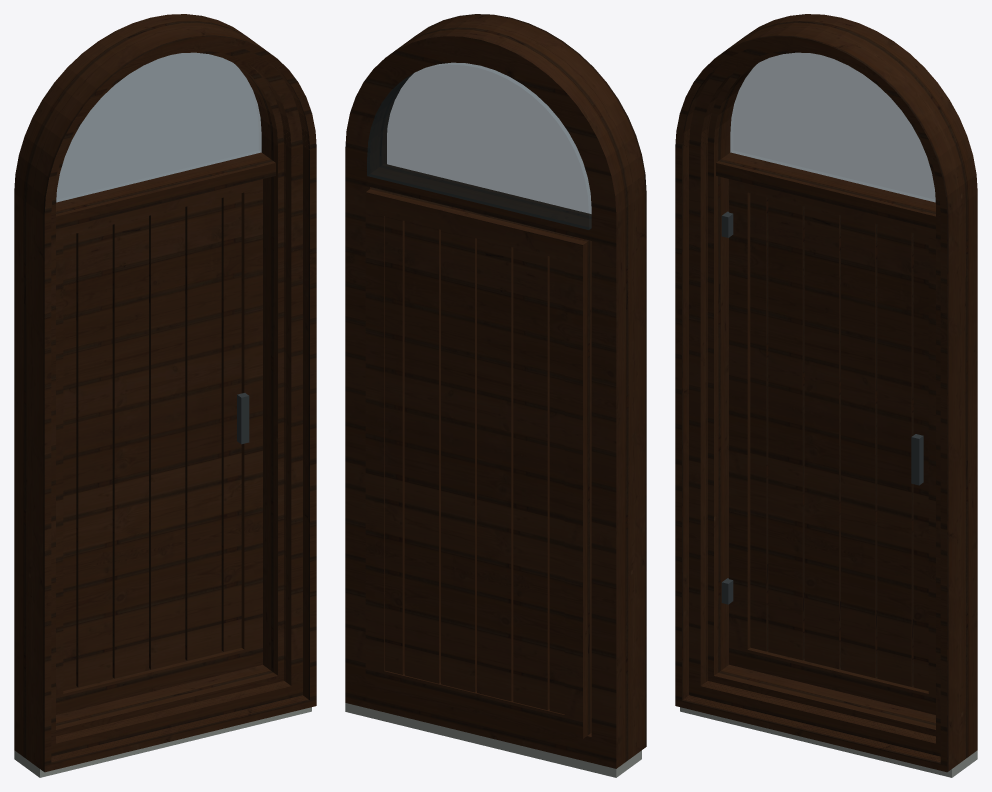
The model's file is madera_arch_puerta.glb.
3 views of the same model, side by side, from view 1: azimuth 30°, elevation 25°; view 2: azimuth 150°, elevation 25°; view 3: azimuth 330°, elevation 25° (orthographic).
Parts seen in each view (by area): view 1: door_reveal#0001, door_leaf_frame#0001, door_moulding#0020, transom_glass#0001, door_board#0004, door_board#0005, door_board#0002, door_board#0003, door_board#0006, door_moulding#0009, door_board#0001, transom_rail#0001 (+20 smaller); view 2: door_reveal#0001, door_leaf_frame#0001, transom_glass#0001, door_board#0002, door_board#0003, door_board#0005, door_board#0004, door_moulding#0020, door_board#0006, door_board#0001, transom_rail#0001, door_threshold#0001; view 3: door_moulding#0020, door_reveal#0001, door_leaf_frame#0001, transom_glass#0001, door_board#0003, door_board#0002, door_board#0004, door_board#0005, door_board#0001, door_board#0006, door_moulding#0009, transom_rail#0001 (+20 smaller).
Boxes of the visible parts, x1,y1,x2,y2 form: door_reveal#0001: (14,14,275,759); door_leaf_frame#0001: (56,179,262,714); door_moulding#0020: (25,22,316,772); transom_glass#0001: (56,52,261,202); door_board#0004: (149,207,185,669); door_board#0005: (185,198,221,660); door_board#0002: (76,224,112,687); door_board#0003: (112,216,148,678); door_board#0006: (221,193,241,651); door_moulding#0009: (53,47,294,747); door_board#0001: (63,233,76,690); transom_rail#0001: (56,152,275,229); door_reveal#0001: (345,26,629,768); door_leaf_frame#0001: (365,187,591,738); transom_glass#0001: (367,62,591,229); door_board#0002: (513,247,549,710); door_board#0003: (477,238,513,701); door_board#0005: (404,221,440,683); door_board#0004: (441,230,476,692); door_moulding#0020: (399,14,646,760); door_board#0006: (385,216,404,674); door_board#0001: (549,256,564,714); transom_rail#0001: (370,164,591,240); door_threshold#0001: (345,703,641,777); door_moulding#0020: (675,22,966,772); door_reveal#0001: (716,14,977,757); door_leaf_frame#0001: (729,179,935,714); transom_glass#0001: (730,52,935,202); door_board#0003: (804,206,840,669); door_board#0002: (768,197,804,660); door_board#0004: (841,215,877,677); door_board#0005: (877,224,913,686); door_board#0001: (750,193,768,651); door_board#0006: (913,233,928,690); door_moulding#0009: (697,47,938,747); transom_rail#0001: (716,152,935,229).
Bounding box in the file's own units: 1.1 × 2.73 × 0.258.
4 materials, 1 textured.
